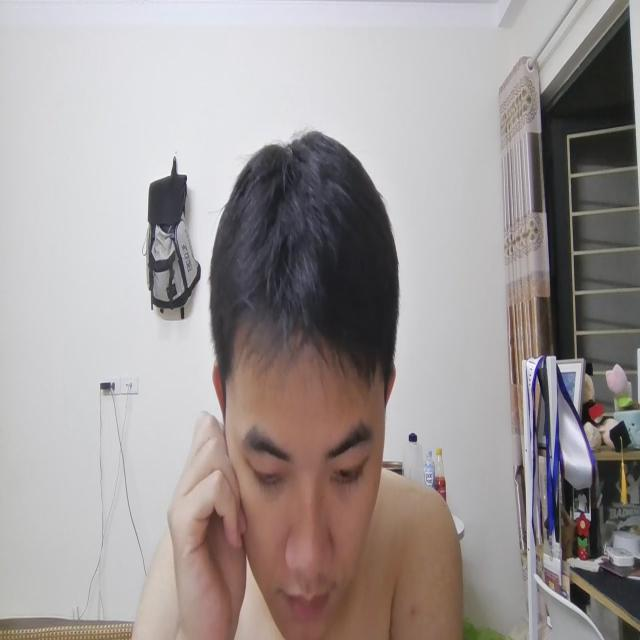student: (191, 130, 408, 640)
